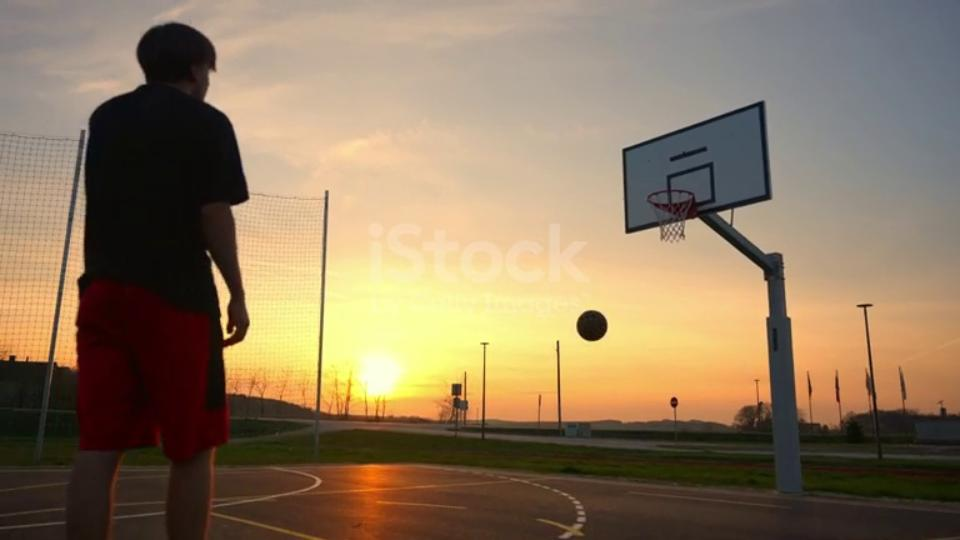hoop: (644, 189, 705, 216)
